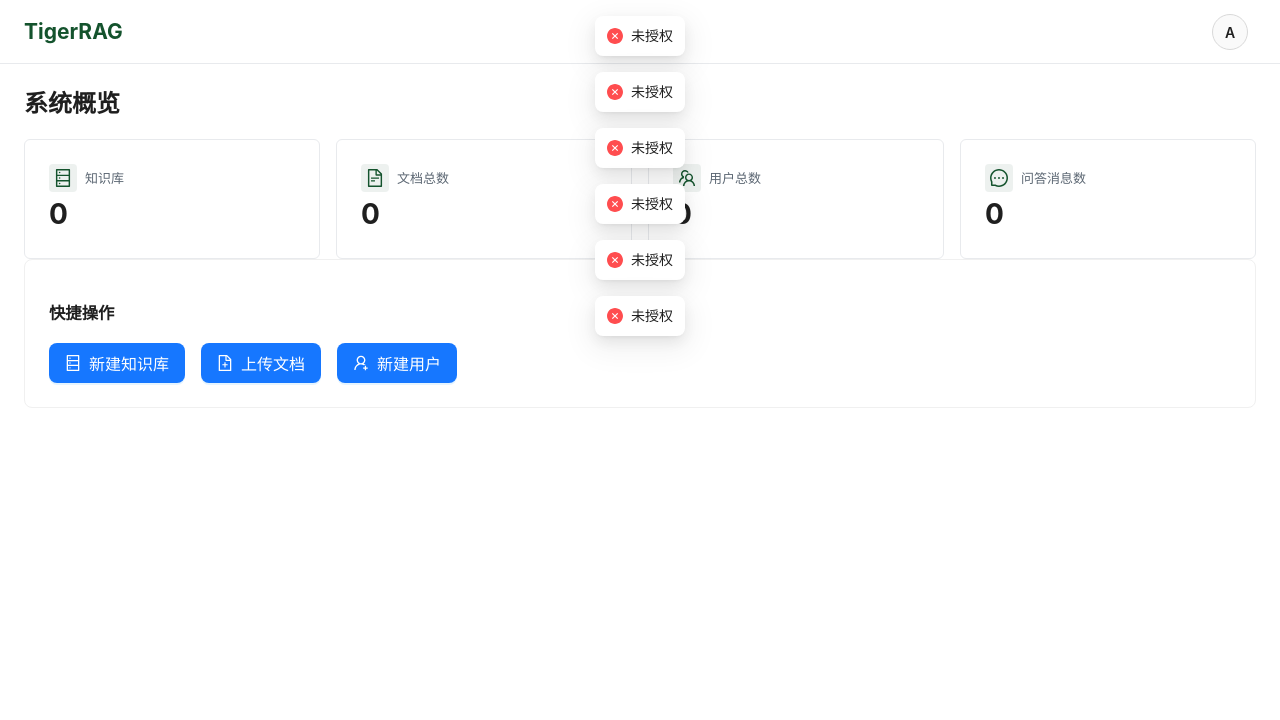
Test: TigerRAG authentication shell › logs out via the user dropdown and returns to the login page
Click the text named "admin" at x=1230, y=32, box left=1212, top=14, right=1248, bottom=50
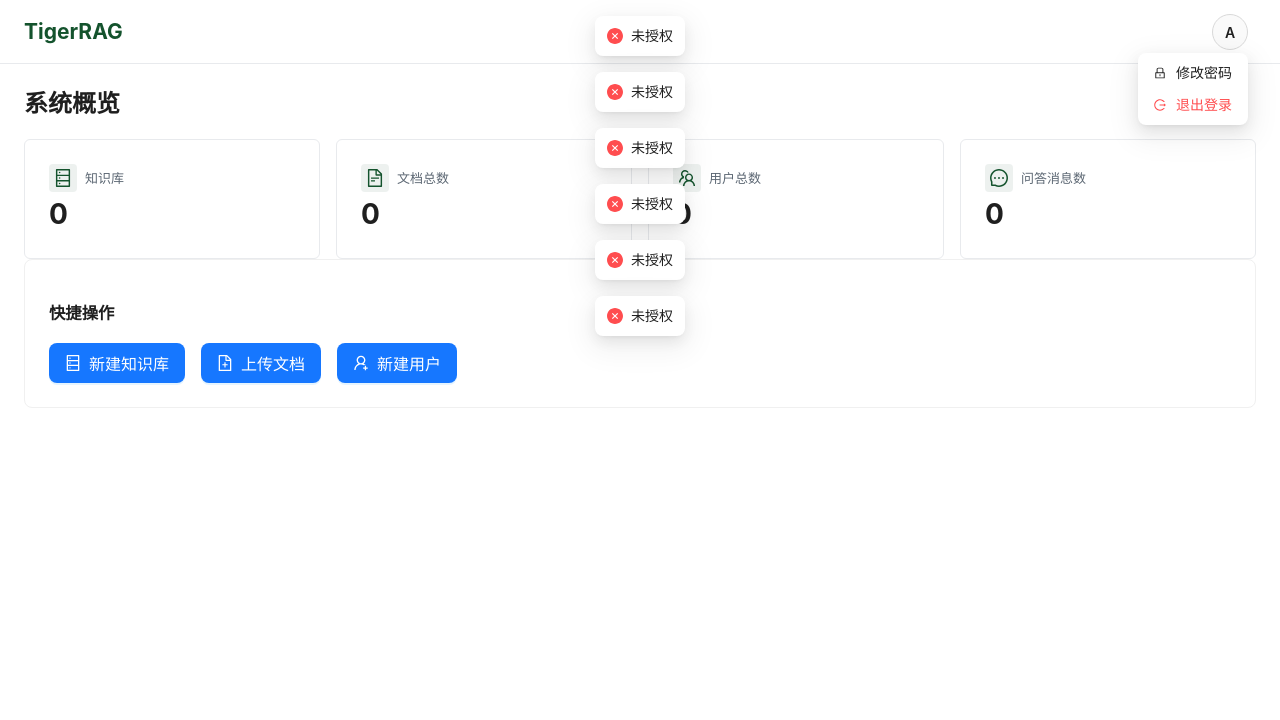
Click the menu item "退出登录" at x=1193, y=104, box left=1154, top=96, right=1232, bottom=113
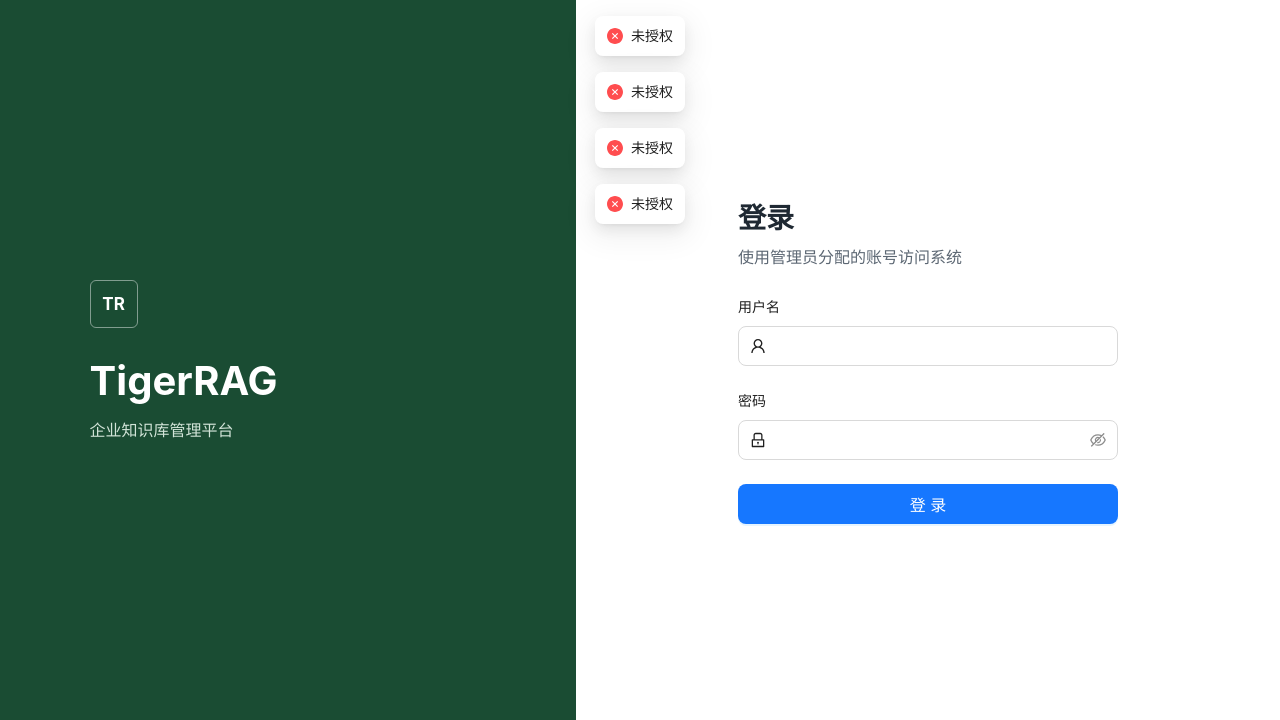
Expected: the button "登 录" is shown, left=738, top=484, right=1118, bottom=524
